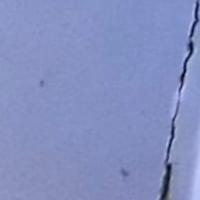crack: (141, 0, 199, 199)
